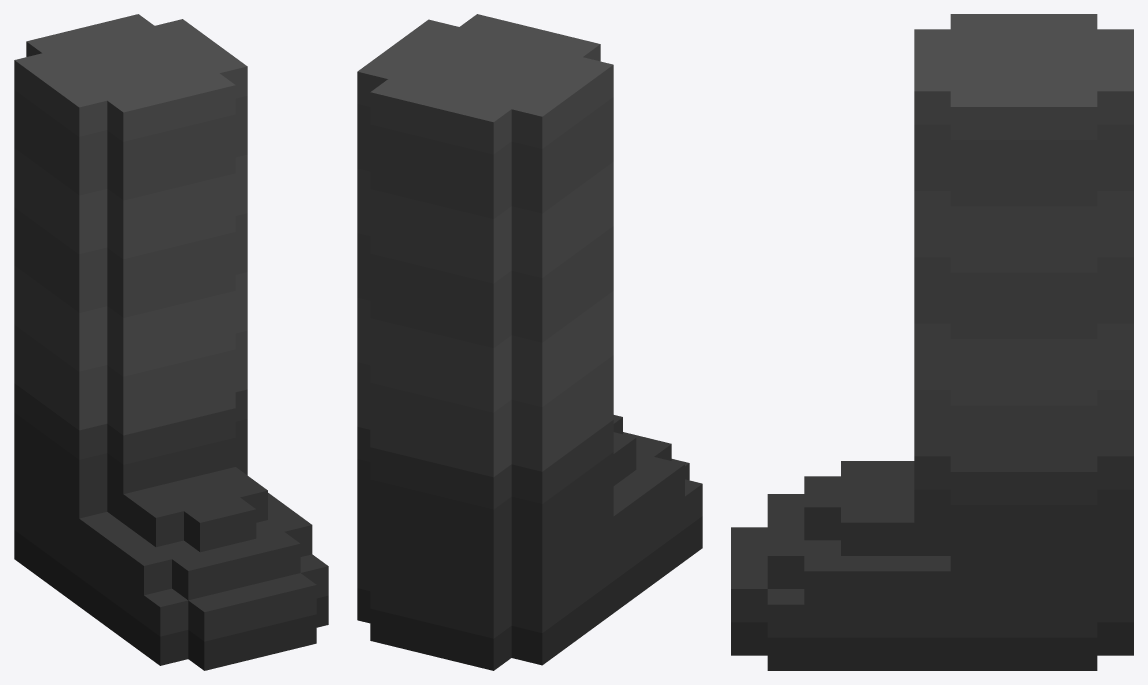
File: Movement Monster-5-Pierna-Pie.obj
3 renders of one model, left to right at view 1: azimuth 30°, elevation 25°; view 2: azimuth 150°, elevation 25°; view 3: azimuth 270°, elevation 25°, orthographic. The views are drawn at different scales.
Parts seen in each view (by area): view 1: Pierna-Pie; view 2: Pierna-Pie; view 3: Pierna-Pie.
Boxes of the visible parts, box(x1,y1,x2,y2) form: Pierna-Pie: box(14, 14, 328, 670); Pierna-Pie: box(357, 14, 702, 670); Pierna-Pie: box(731, 14, 1133, 670).
Bounding box in the file's own units: 0.6 × 1.7 × 1.1.
Materials: 1 (1 with a texture image).
